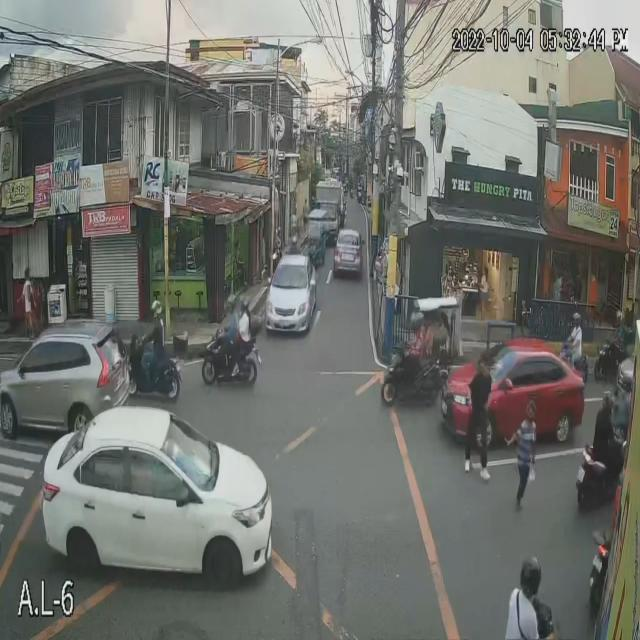full: (149, 298, 164, 320)
half: (521, 555, 544, 601)
